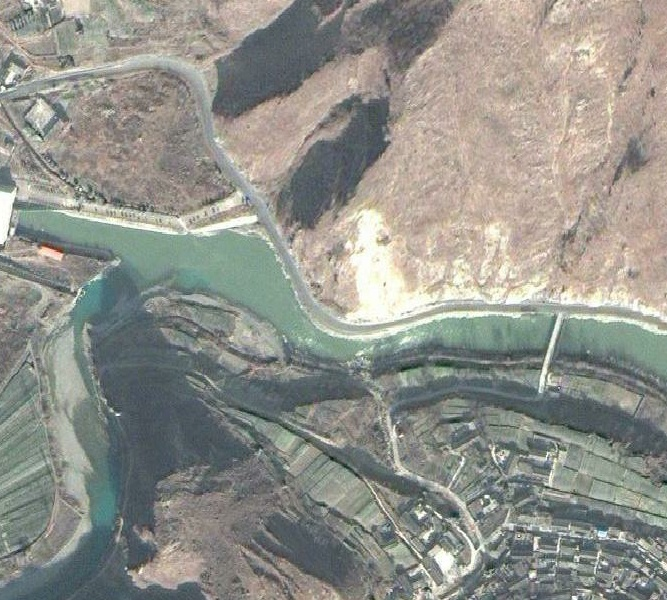slope: (330, 198, 551, 322)
